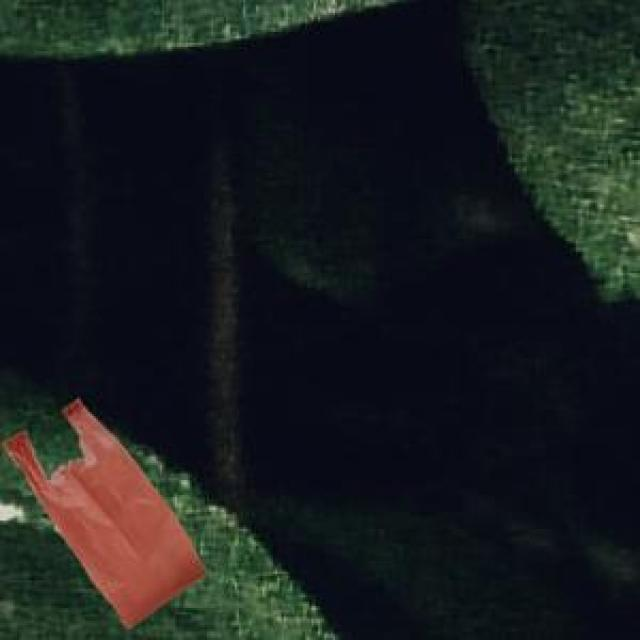waste: (5, 399, 204, 627)
